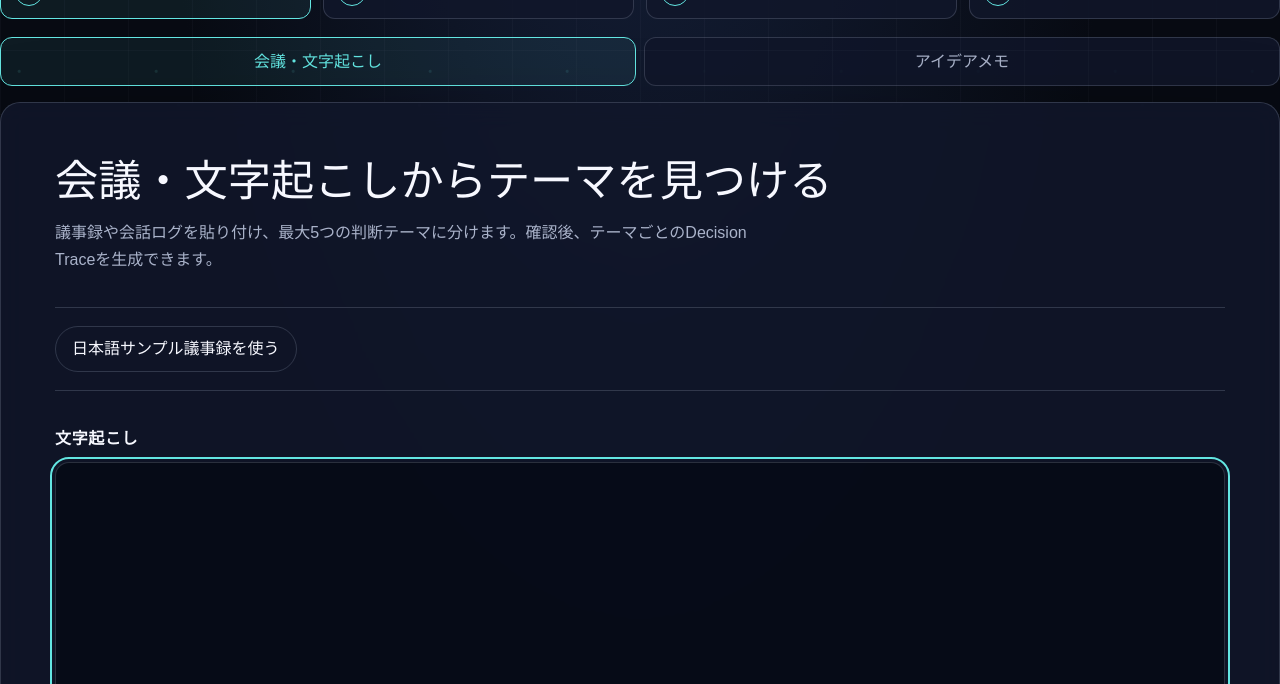
Test: DecisionTraceApp › shows safe bilingual guidance for ANALYSIS_BUSY
Step 1. Click the button "アイデアメモ" → (962, 62), box [644,37,1279,86]
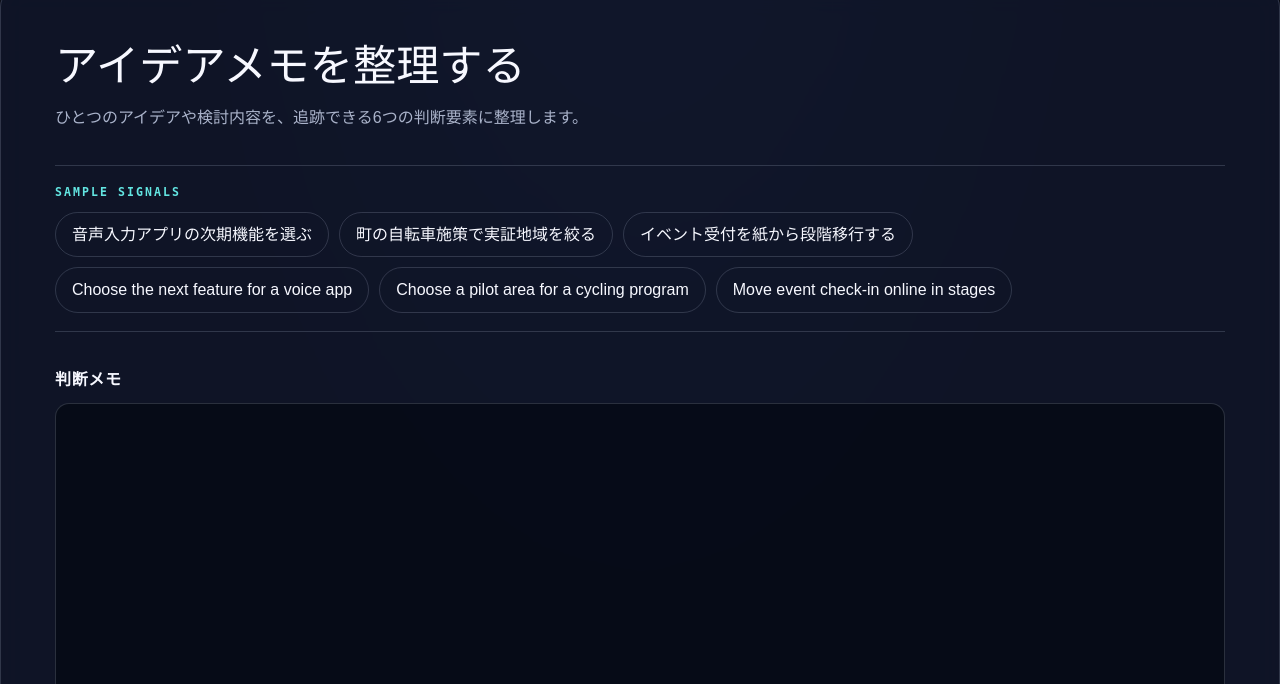
Step 2. Click the button "町の自転車施策で実証地域を絞る" → (476, 235), box [339,212,613,257]
(page scrolled)
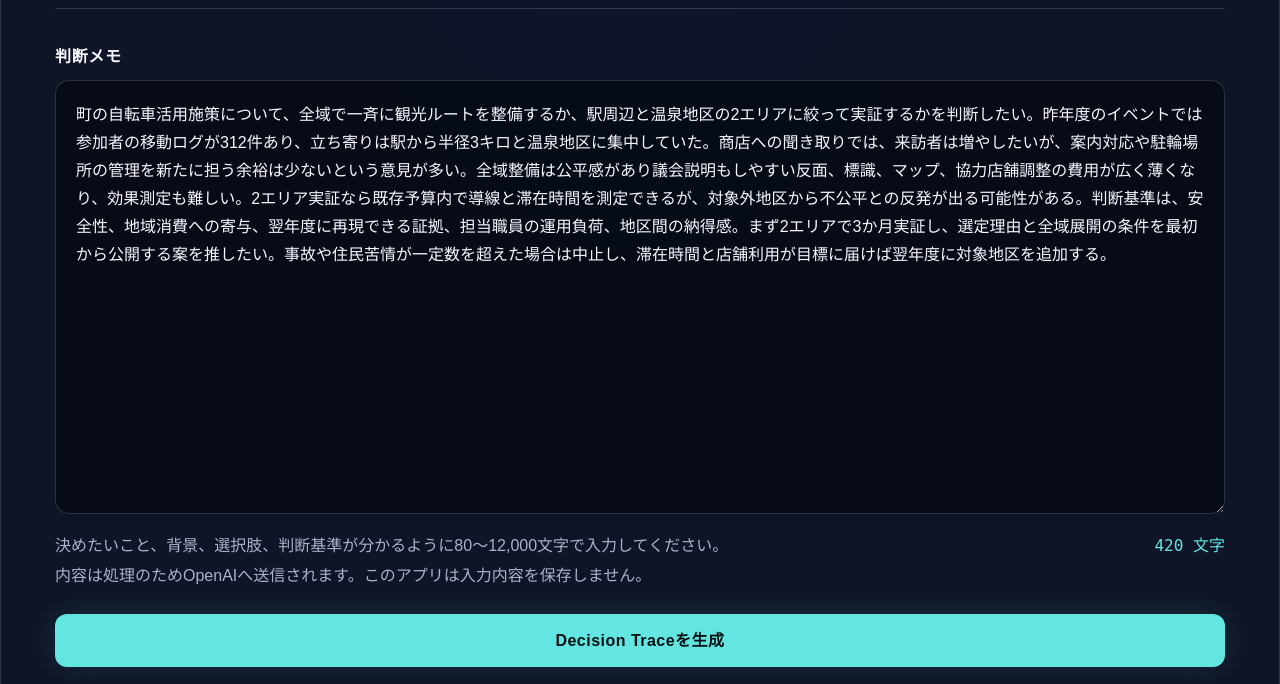
Step 3. Click the button "Decision Traceを生成" → (640, 641), box [55,614,1225,668]
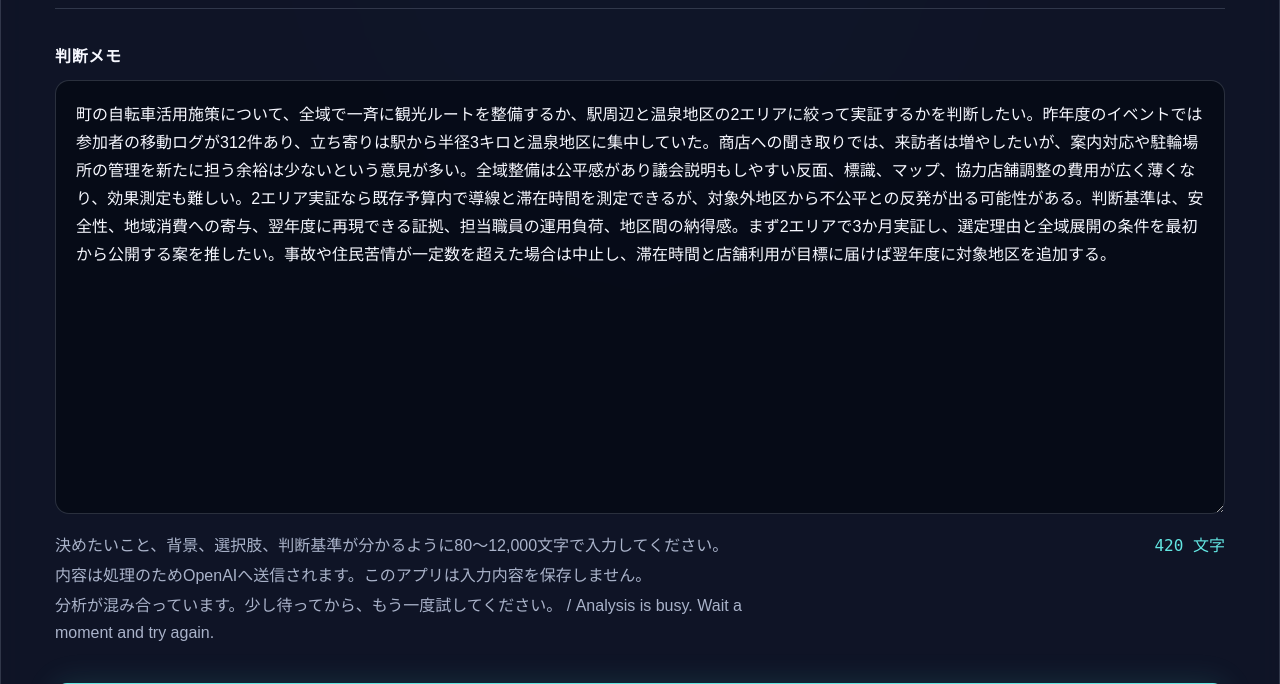
expect the text box labelled "判断メモ" holds "町の自転車活用施策について、全域で一斉に観光ルートを整備するか、駅周辺と温泉地区の2エリアに絞って実証するかを判断したい。昨年度のイベントでは参加者の移動ログが312件あり、立ち寄りは駅から半径3キロと温泉地区に集中していた。商店への聞き取りでは、来訪者は増やしたいが、案内対応や駐輪場所の管理を新たに担う余裕は少ないと": met, box [55,80,1225,514]
expect the message shows "分析が混み合っています": met, box [55,597,742,642]
expect the message shows "Analysis is busy": met, box [55,597,742,642]
